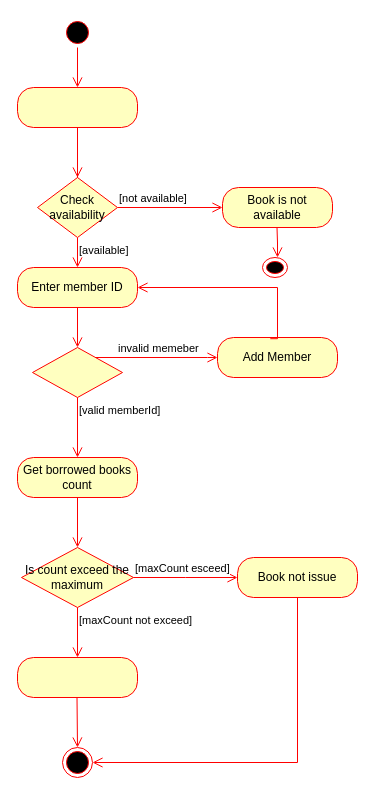
Image size: 375x795. Some labels were removed from this diagram. Each missing label, with the box of its shape:
Is member exists: (32, 346, 122, 398)
Issue Book: (16, 656, 138, 698)
Request to borrow book: (16, 86, 138, 128)
